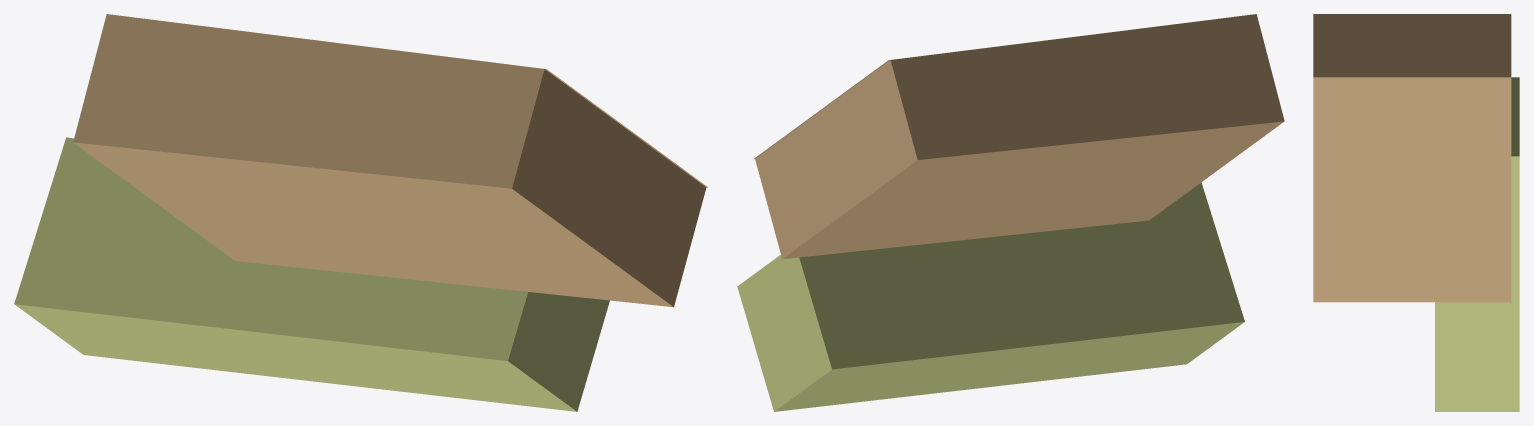
3 renders of one model, left to right at view 1: azimuth 30°, elevation 25°; view 2: azimuth 150°, elevation 25°; view 3: azimuth 270°, elevation 25°, orthographic. The views are drawn at different scales.
Parts seen in each view (by area): view 1: 0_3_1_3_3_2_3_3_0; view 2: 0_3_1_3_3_2_3_3_0; view 3: 0_3_1_3_3_2_3_3_0.
Boxes of the visible parts, x1,y1,x2,y2 form: 0_3_1_3_3_2_3_3_0: (14, 14, 707, 411); 0_3_1_3_3_2_3_3_0: (737, 14, 1284, 411); 0_3_1_3_3_2_3_3_0: (1313, 14, 1519, 411).
Bounding box in the file's own units: 40.26 × 32.33 × 21.9.
